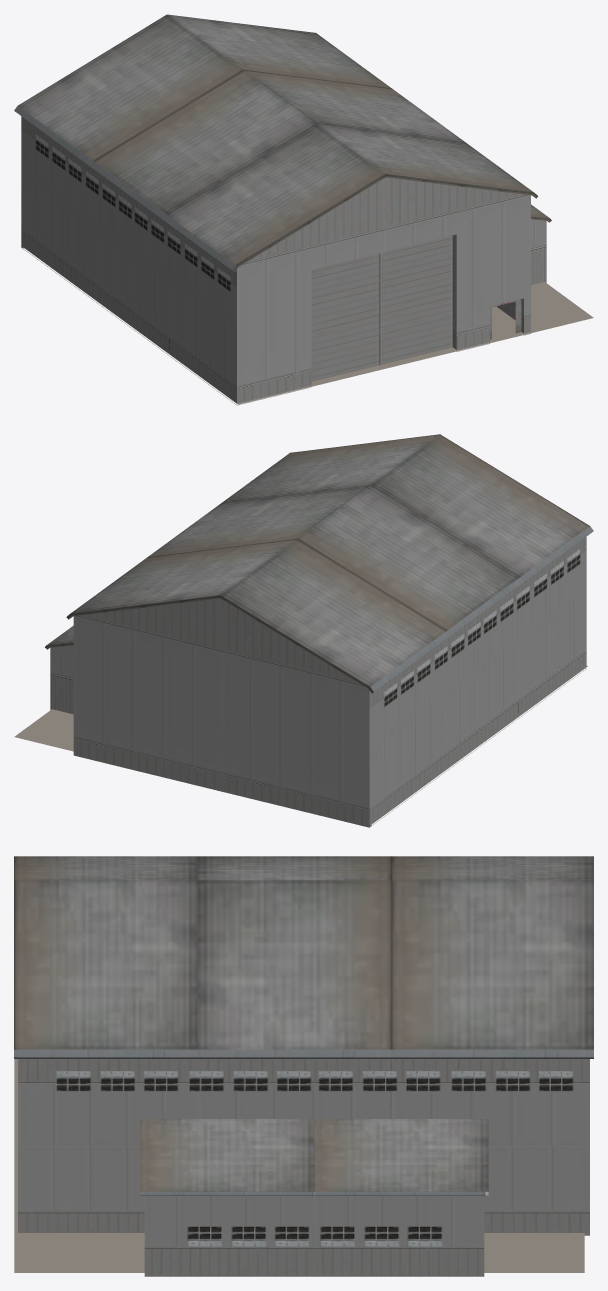
Rendered from ind-warehouse-3.walls-v2.lod1.glb.
3 renders of one model, top to bottom at view 1: azimuth 30°, elevation 25°; view 2: azimuth 150°, elevation 25°; view 3: azimuth 270°, elevation 25°, orthographic. The views are drawn at different scales.
Parts seen in each view (by area): view 1: Industrial_Warehouse_3_Industrial_Walls_FLR_4_0, Industrial_Warehouse_3_Industrial_Trim_FLR_1_0, Walkable floors and stairs; view 2: Industrial_Warehouse_3_Industrial_Walls_FLR_4_0, Industrial_Warehouse_3_Industrial_Trim_FLR_1_0, Walkable floors and stairs; view 3: Industrial_Warehouse_3_Industrial_Trim_FLR_1_0, Industrial_Warehouse_3_Industrial_Walls_FLR_4_0, Walkable floors and stairs.
Part boxes in pixels (x1,y1,x2,y2): Industrial_Warehouse_3_Industrial_Walls_FLR_4_0: (14, 106, 551, 405); Industrial_Warehouse_3_Industrial_Trim_FLR_1_0: (18, 14, 549, 339); Walkable floors and stairs: (23, 247, 593, 404); Industrial_Warehouse_3_Industrial_Walls_FLR_4_0: (45, 526, 593, 827); Industrial_Warehouse_3_Industrial_Trim_FLR_1_0: (46, 434, 589, 706); Walkable floors and stairs: (14, 666, 587, 823); Industrial_Warehouse_3_Industrial_Trim_FLR_1_0: (14, 856, 593, 1246); Industrial_Warehouse_3_Industrial_Walls_FLR_4_0: (14, 1049, 593, 1276); Walkable floors and stairs: (14, 1059, 584, 1272).
Size of the model in its own units: 24.44 by 12.49 by 25.22.
3 materials, 2 textured.
